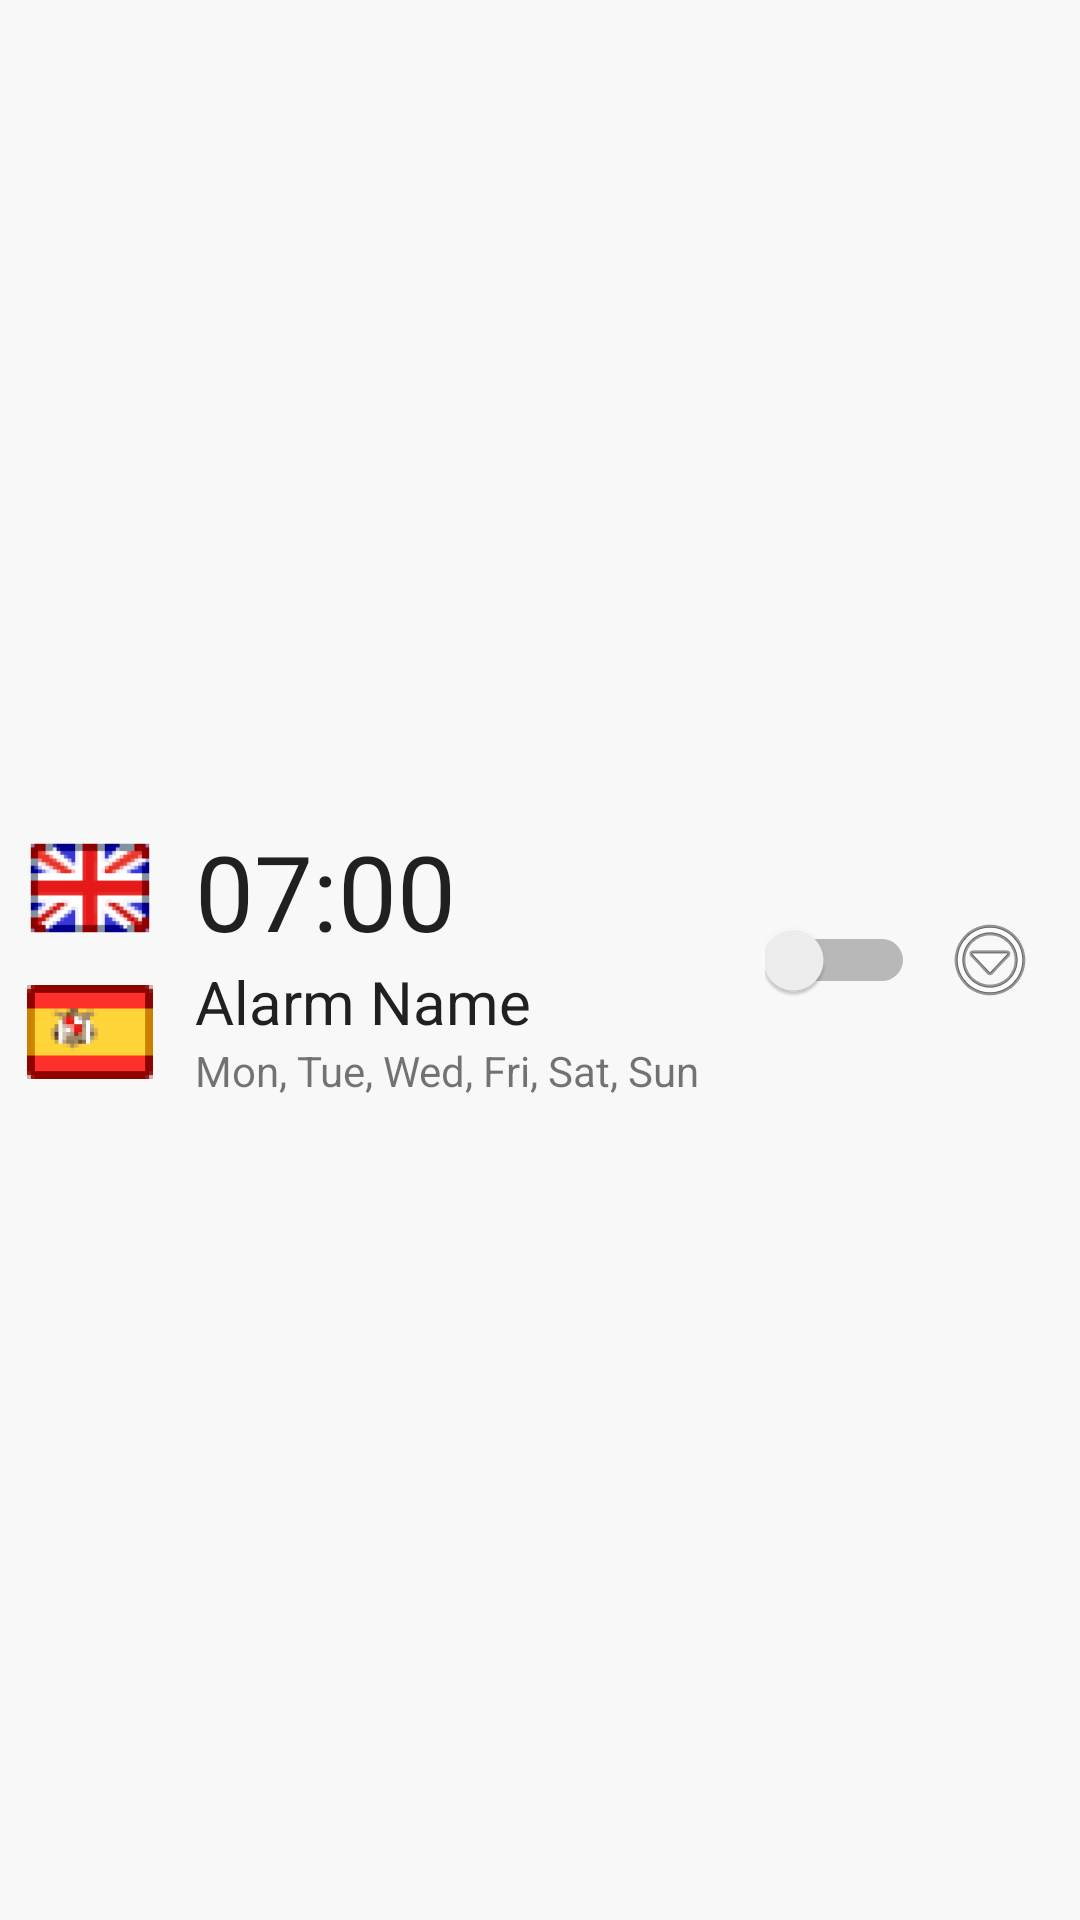

Point at icon controls on the screen. Image size 1080x1920, points as [x,y].
englishiconsmall: [90,888]
more: [990,960]
spanishiconsmall: [90,1032]
